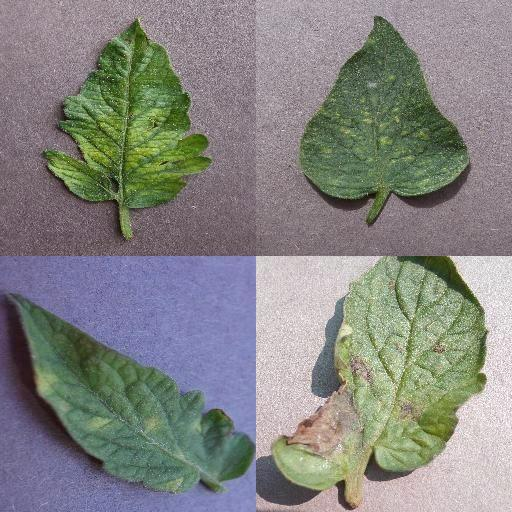Late Blight: (270, 256, 488, 493)
Leaf Mold: (7, 291, 256, 493)
Mosaic Virus: (40, 16, 214, 208)
Spider Mites: (302, 15, 470, 199)
